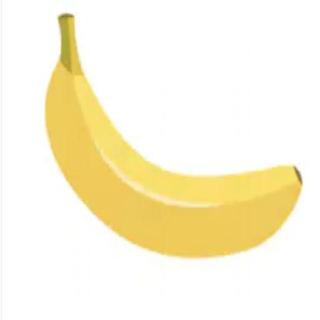banana: (43, 65, 305, 264)
